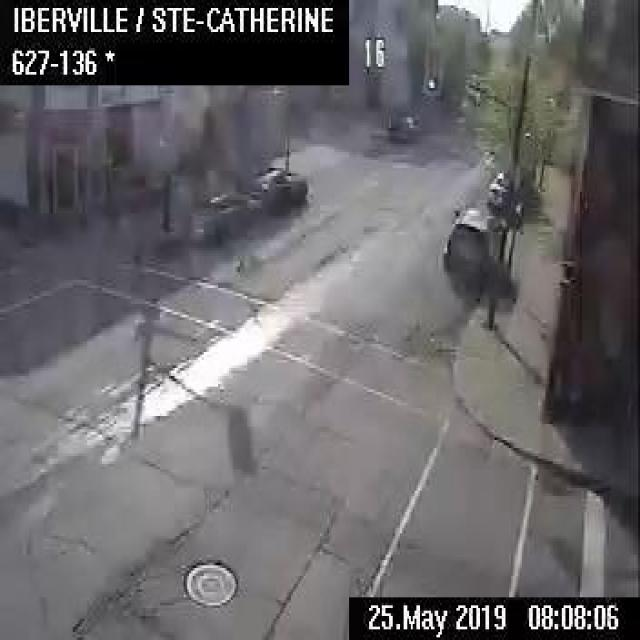vehicle: (441, 205, 500, 272), (186, 187, 260, 240), (240, 164, 306, 205), (388, 109, 421, 141), (485, 170, 507, 204)
